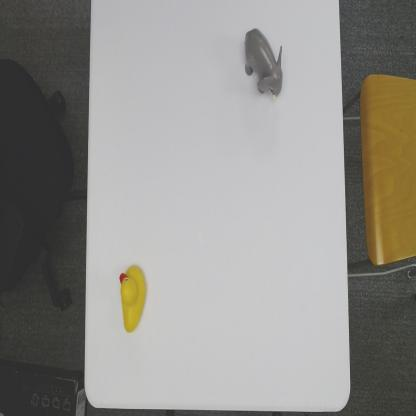Duck: (117, 262, 149, 334)
Elephant: (242, 26, 285, 100)
